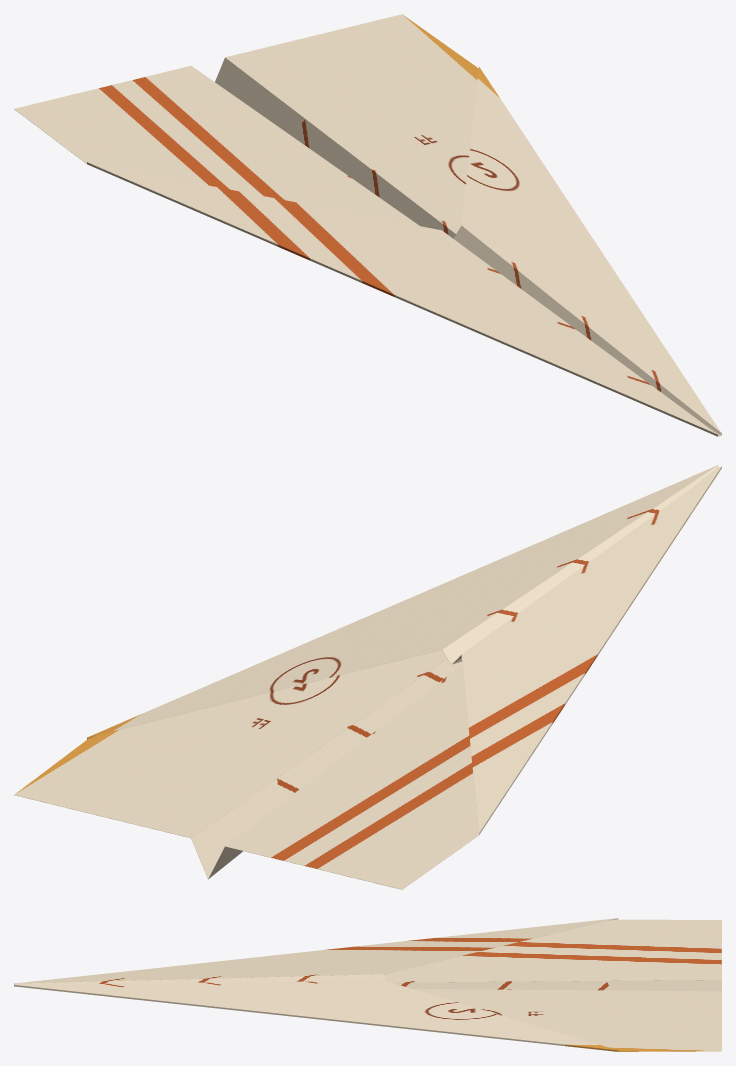
Rendered from Avion_Rayo.fbx.
3 renders of one model, top to bottom at view 1: azimuth 30°, elevation 25°; view 2: azimuth 150°, elevation 25°; view 3: azimuth 270°, elevation 25°, orthographic. The views are drawn at different scales.
Visible parts, largest first — view 1: Avion_Rayo; view 2: Avion_Rayo; view 3: Avion_Rayo.
Part boxes in pixels (x1,y1,x2,y2): Avion_Rayo: [14, 14, 721, 436]; Avion_Rayo: [14, 465, 721, 889]; Avion_Rayo: [14, 918, 721, 1051].
Bounding box in the file's own units: 15.5 × 1.86 × 35.05.
Materials: 1 (1 with a texture image).
